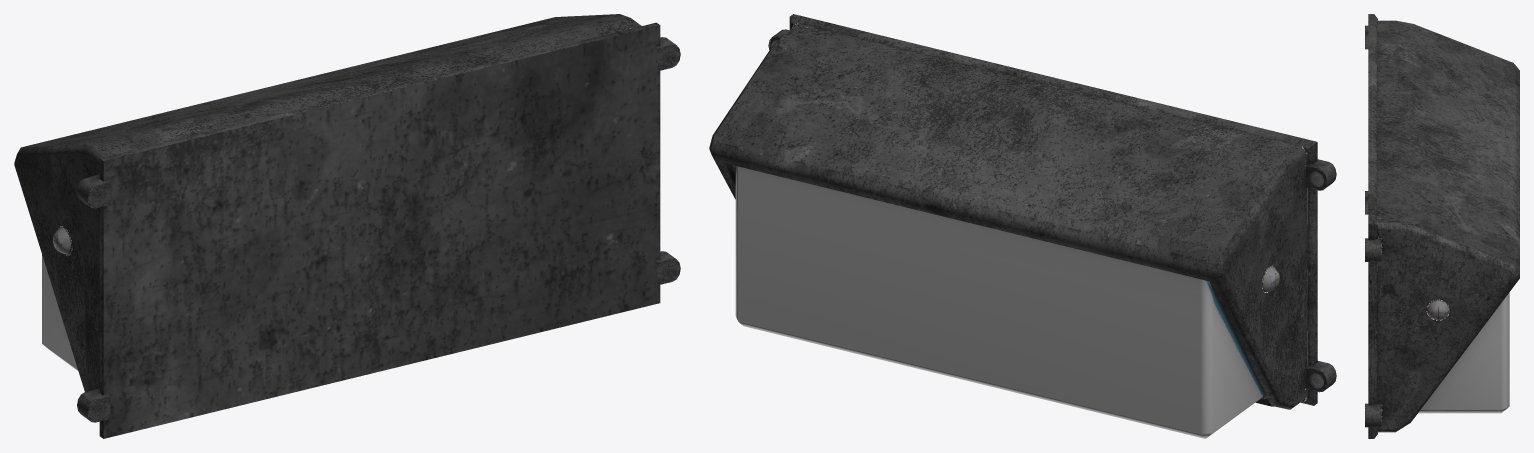
Rendered from Building_Light.fbx.
The picture shows the model from 3 angles, left to right: view 1: azimuth 30°, elevation 25°; view 2: azimuth 150°, elevation 25°; view 3: azimuth 270°, elevation 25°; orthographic projection. The views are drawn at different scales.
Parts seen in each view (by area): view 1: Building_Light_LOD0; view 2: Building_Light_LOD0; view 3: Building_Light_LOD0.
Part boxes in pixels (box(x1,y1,x2,y2)): Building_Light_LOD0: box(14, 14, 680, 438); Building_Light_LOD0: box(709, 14, 1336, 438); Building_Light_LOD0: box(1365, 14, 1519, 438).
Size of what is drawn, in the model's own units: 56.64 by 25.34 by 16.56.
